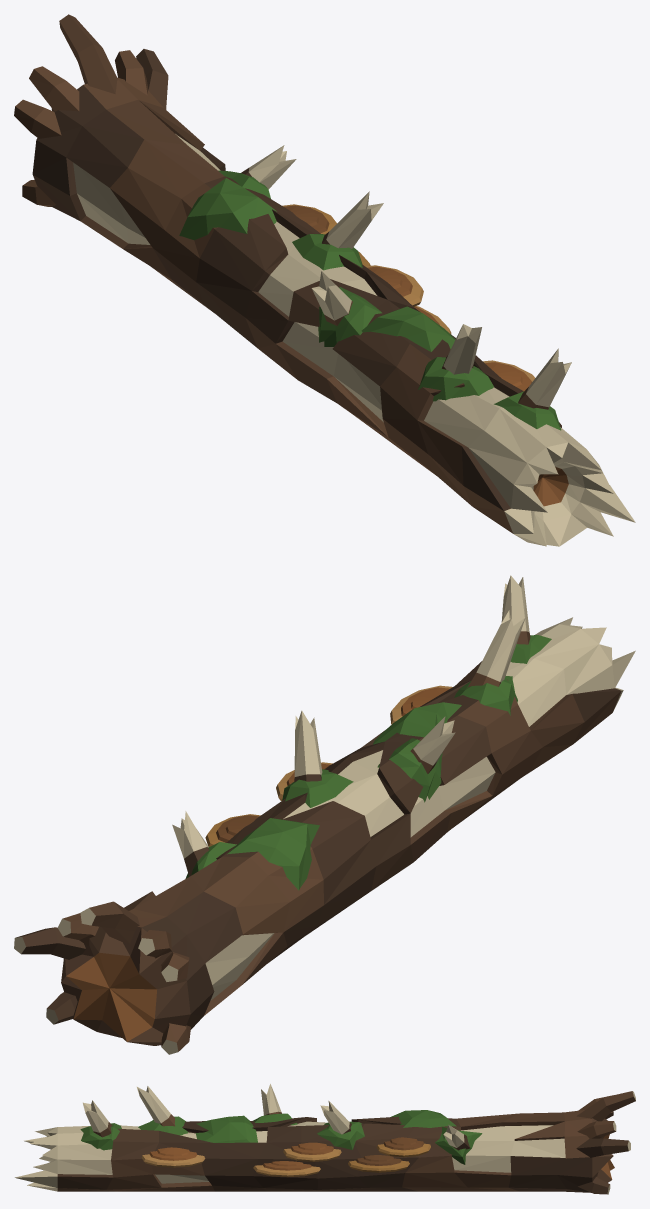
Rendered from bracket-fungus-log-2deef4.glb.
3 renders of one model, top to bottom at view 1: azimuth 30°, elevation 25°; view 2: azimuth 150°, elevation 25°; view 3: azimuth 270°, elevation 25°, orthographic. The views are drawn at different scales.
Parts seen in each view (by area): view 1: log; view 2: log; view 3: log.
Boxes of the visible parts, x1,y1,x2,y2 form: log: (14, 14, 635, 546); log: (14, 575, 635, 1054); log: (15, 1084, 635, 1194).
Bounding box in the file's own units: 1 × 1.01 × 6.
